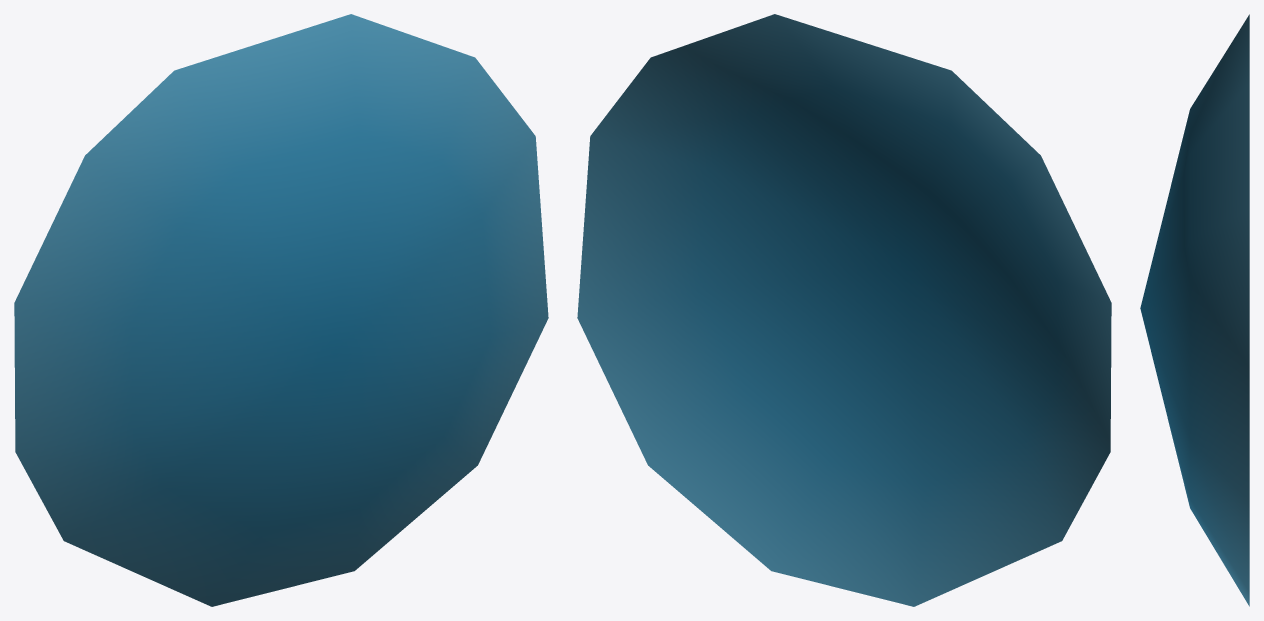
3 views of the same model, side by side, from view 1: azimuth 30°, elevation 25°; view 2: azimuth 150°, elevation 25°; view 3: azimuth 270°, elevation 25° (orthographic). The views are drawn at different scales.
Visible parts, largest first — view 1: transp; view 2: transp; view 3: transp.
Boxes of the visible parts, x1,y1,x2,y2 form: transp: (14, 14, 548, 606); transp: (577, 14, 1111, 606); transp: (1140, 14, 1249, 606).
Size of the model in its own units: 0.5 by 0.5 by 0.0945.
